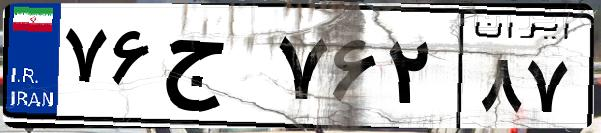2: (385, 28, 445, 110)
6: (330, 28, 385, 110), (110, 28, 158, 98)
7: (270, 28, 330, 110), (57, 26, 110, 100), (525, 38, 570, 115)
8: (475, 38, 525, 113)
ج: (158, 20, 270, 120)
